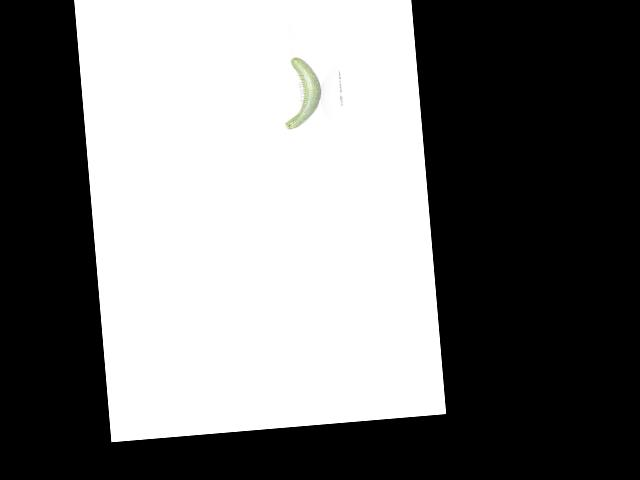cucumber: (279, 55, 324, 129)
